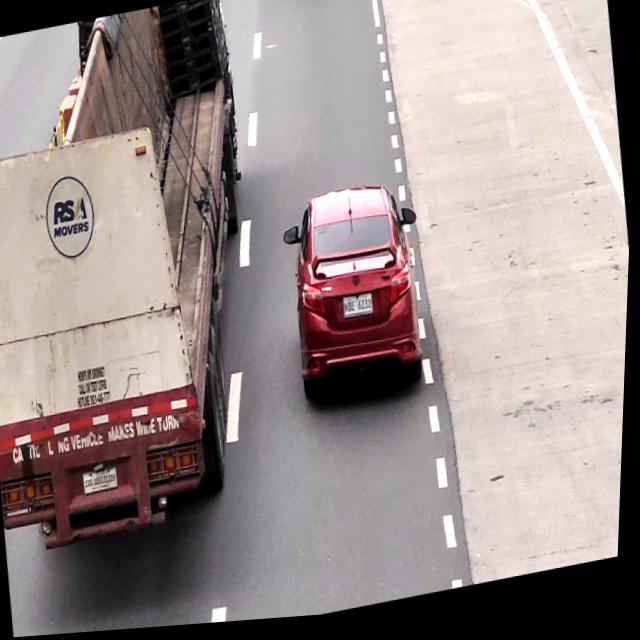Car: (284, 182, 440, 411)
License-Plate: (341, 293, 379, 328), (82, 464, 122, 497)
Truck: (0, 0, 266, 556)
